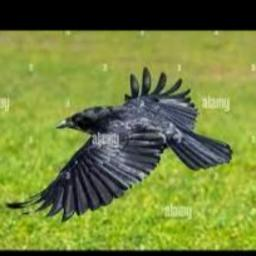Crow: (4, 68, 232, 223)
